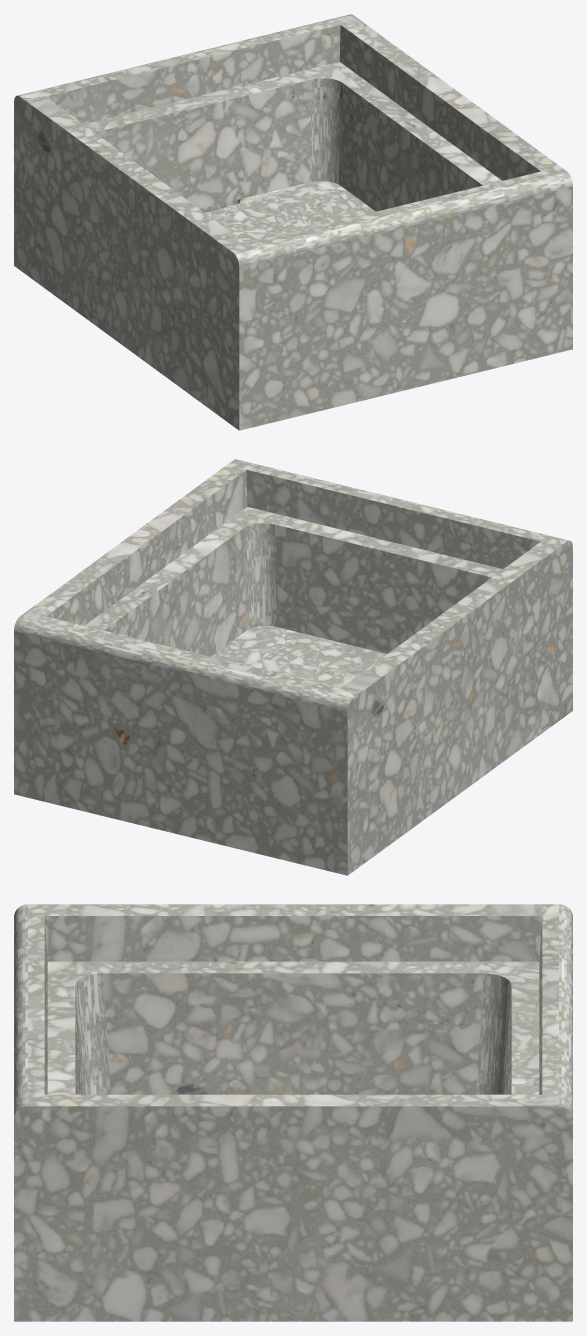
File: vasquetest.glb
3 renders of one model, top to bottom at view 1: azimuth 30°, elevation 25°; view 2: azimuth 150°, elevation 25°; view 3: azimuth 270°, elevation 25°, orthographic. The views are drawn at different scales.
Parts seen in each view (by area): view 1: Nouveau-L01_N003 (Meshed); view 2: Nouveau-L01_N003 (Meshed); view 3: Nouveau-L01_N003 (Meshed).
Boxes of the visible parts, x1,y1,x2,y2 form: Nouveau-L01_N003 (Meshed): (14,14,572,430); Nouveau-L01_N003 (Meshed): (14,459,572,875); Nouveau-L01_N003 (Meshed): (14,904,572,1321).
Size of the model in its own units: 0.342 by 0.17 by 0.4.
1 material, 1 textured.
